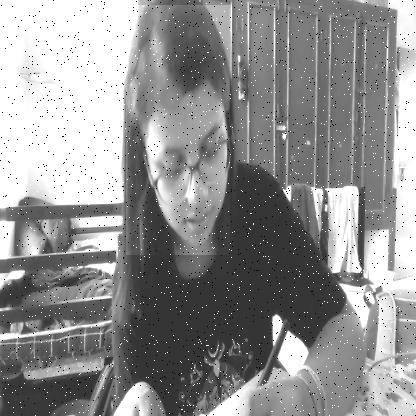Normal: (126, 6, 230, 256)
